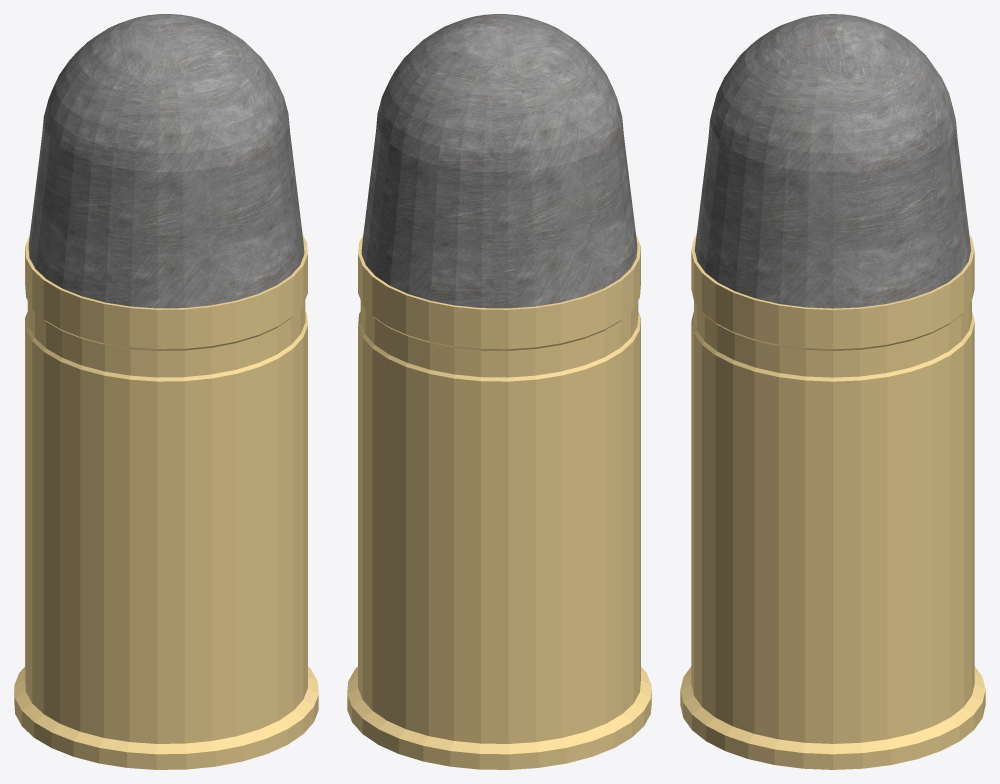
File: Bullet.fbx
3 renders of one model, left to right at view 1: azimuth 30°, elevation 25°; view 2: azimuth 150°, elevation 25°; view 3: azimuth 270°, elevation 25°, orthographic.
Visible parts, largest first — view 1: Cylinder, Cylinder.001; view 2: Cylinder, Cylinder.001; view 3: Cylinder, Cylinder.001.
Boxes of the visible parts, x1,y1,x2,y2 form: Cylinder: [14, 234, 318, 769]; Cylinder.001: [28, 14, 304, 308]; Cylinder: [347, 234, 651, 769]; Cylinder.001: [361, 14, 637, 308]; Cylinder: [680, 235, 985, 769]; Cylinder.001: [694, 14, 971, 308].
Bounding box in the file's own units: 215 × 530 × 215.
3 materials, 3 textured.
